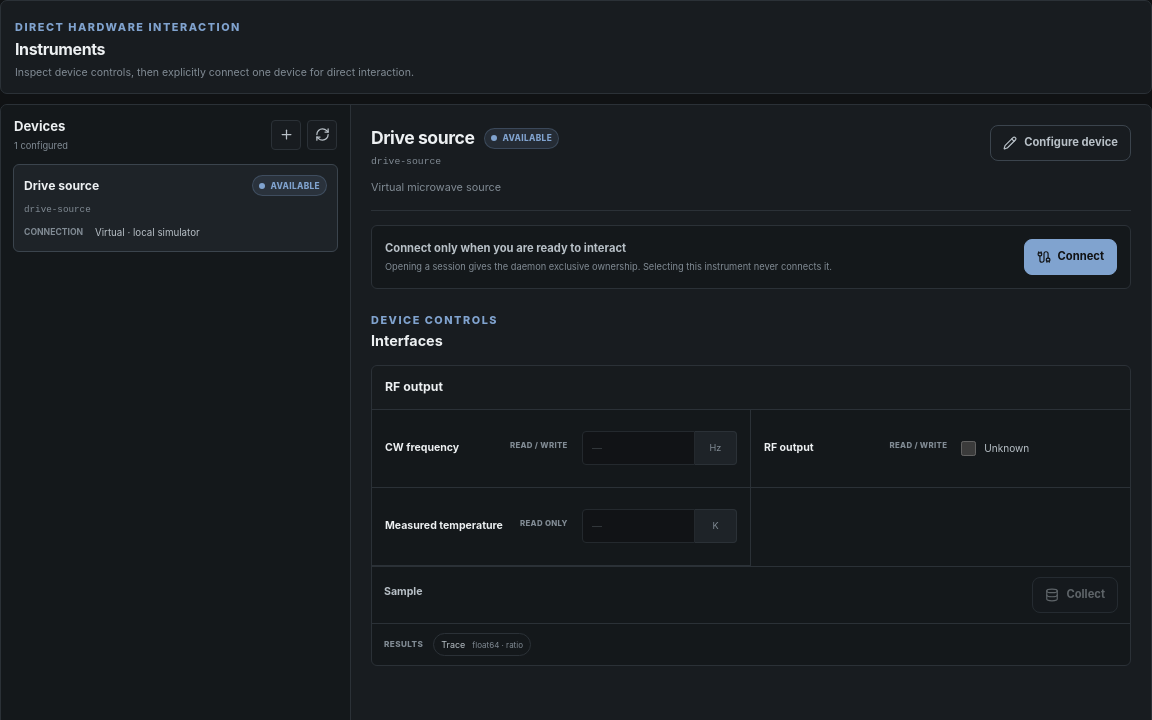
it: instrument workspace › uses session-open state without another read, refreshes explicitly, and closes
This screenshot has width=1152, height=720.
Expected: the text "Drive source" is shown, [24,177,99,195]
Click the button "Connect" at (1070, 257), box [1024,239,1117,275]
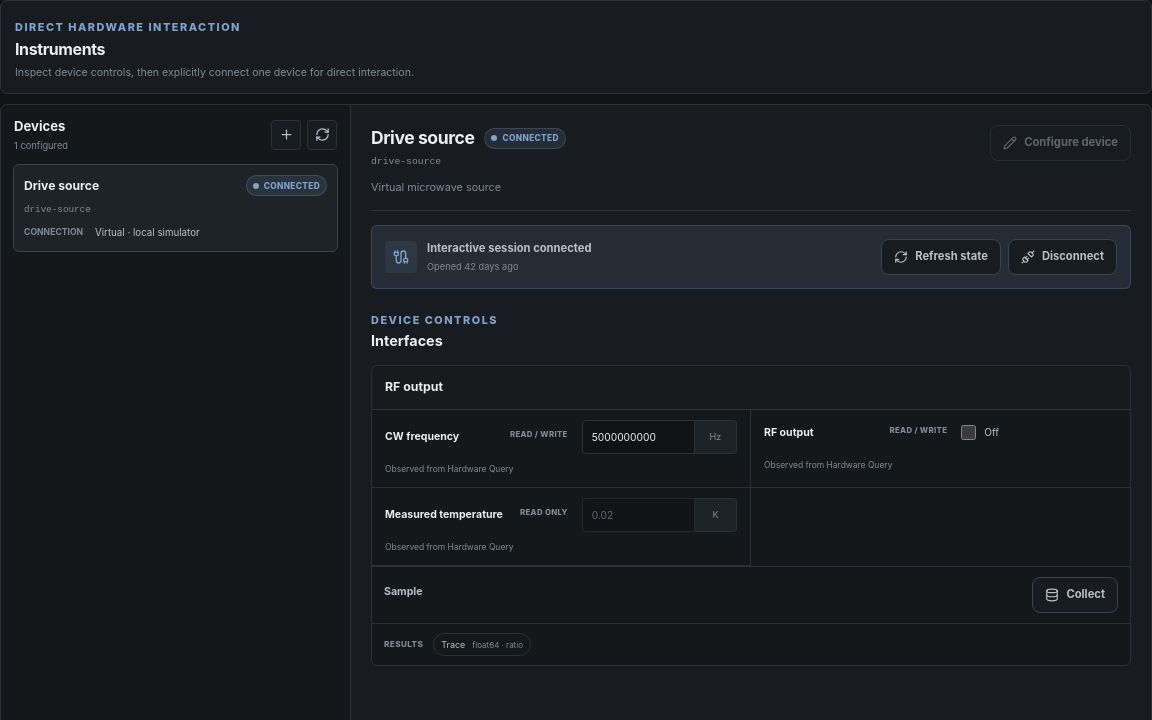
Expected: the text "Interactive session connected" is shown, [427,240,592,257]
Expected: the number field showing "5000000000" is shown, [582,420,695,454]
Click the button "Refresh state" at (941, 257), box [881,239,1001,275]
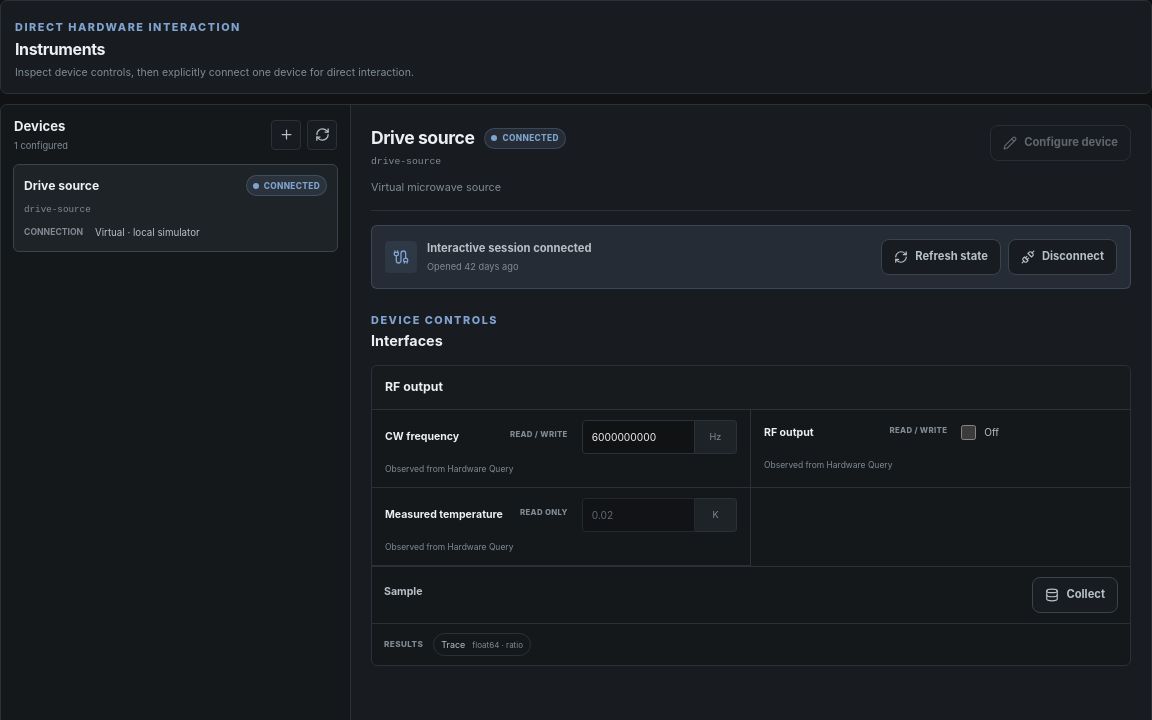
Expected: the number field showing "6000000000" is shown, [582,420,695,454]
